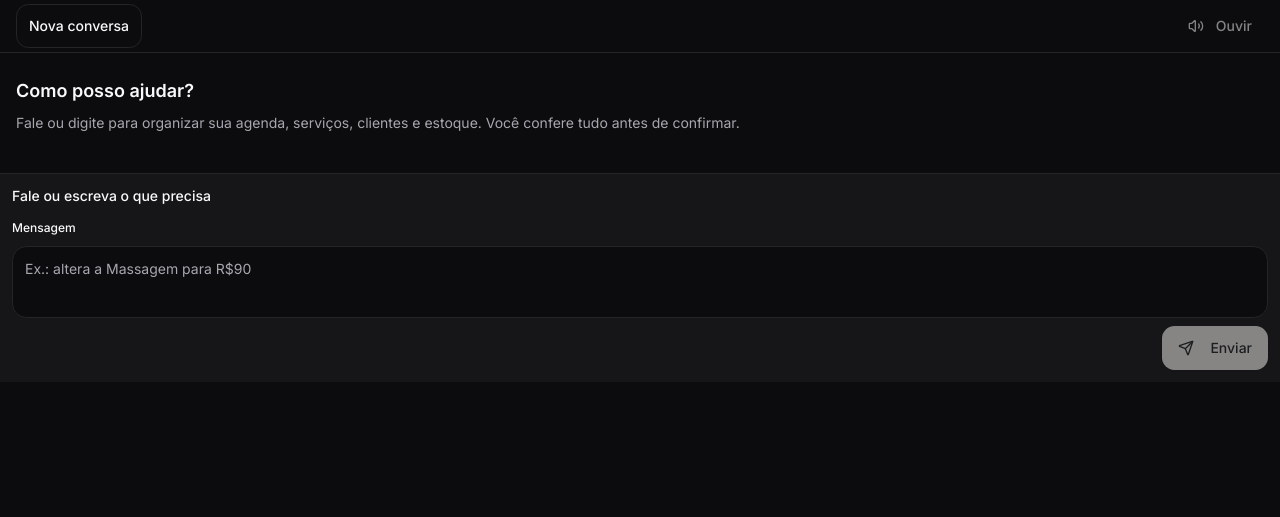
Test: the review box is driven by the status (copy on) › HARD_BLOCK: "Este horário não pode ser usado" and never a Confirmar button
The width and height of the screenshot is (1280, 517).
Click the button "Nova conversa" at (79, 26), box [16, 4, 142, 48]
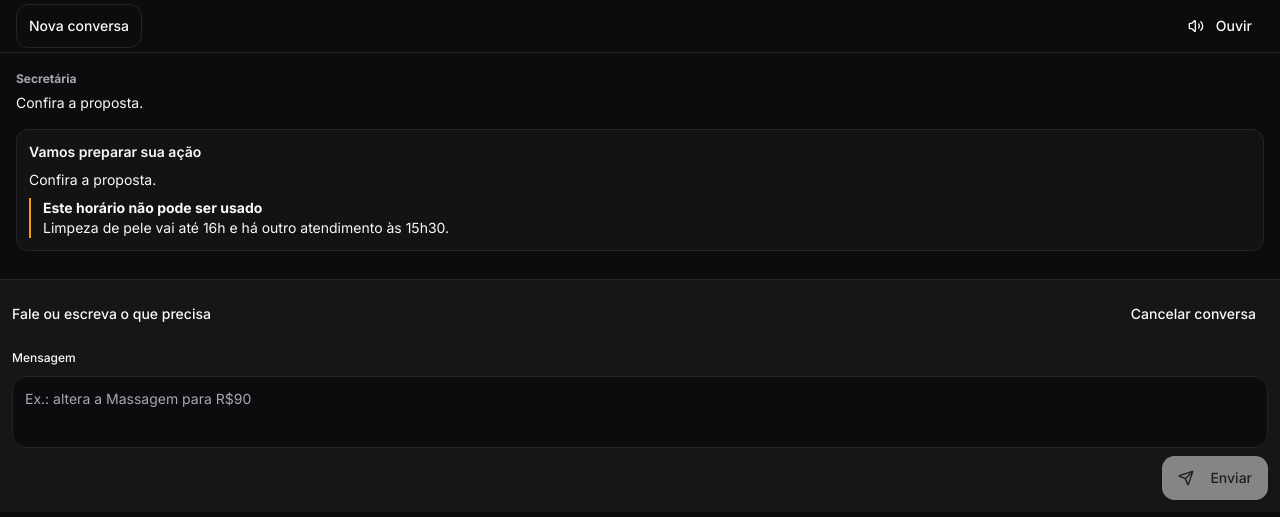
Expected: the text "Este horário não pode ser usado" is shown, [43, 199, 262, 216]
